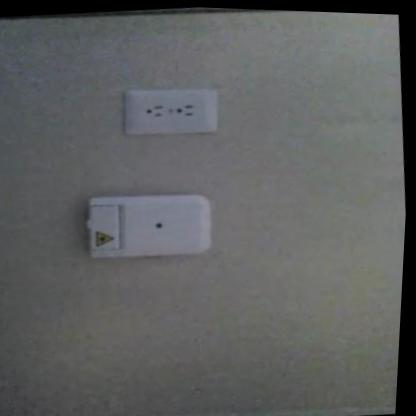OUTLET: (121, 82, 220, 140)
